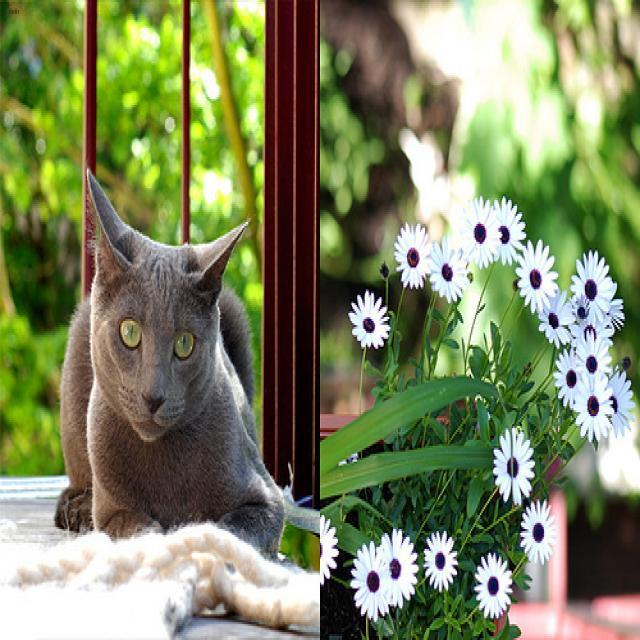Russian_Blue: (82, 168, 255, 449)
